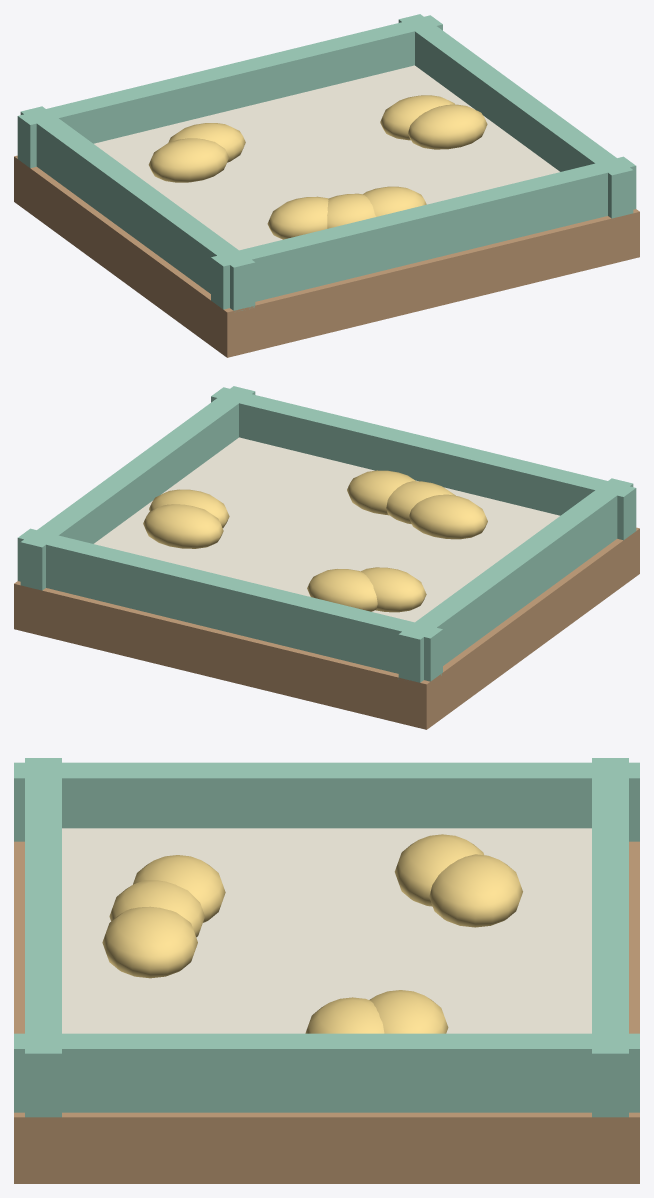
File: dig-box.glb
3 renders of one model, top to bottom at view 1: azimuth 30°, elevation 25°; view 2: azimuth 150°, elevation 25°; view 3: azimuth 270°, elevation 25°, orthographic. The views are drawn at different scales.
Parts seen in each view (by area): view 1: low box rim, soft bedding, digging box, bedding mound.001; view 2: low box rim, soft bedding, digging box, bedding mound.001; view 3: low box rim, soft bedding, digging box, bedding mound.001.
Part boxes in pixels (x1,y1,x2,y2): low box rim: [17, 14, 636, 310]; soft bedding: [94, 65, 559, 250]; digging box: [14, 155, 639, 357]; bedding mound.001: [148, 95, 487, 239]; low box rim: [17, 386, 636, 682]; soft bedding: [94, 437, 559, 622]; digging box: [14, 527, 639, 729]; bedding mound.001: [143, 470, 487, 612]; low box rim: [14, 758, 639, 1117]; soft bedding: [62, 828, 591, 1033]; digging box: [14, 841, 639, 1183]; bedding mound.001: [102, 834, 522, 1033].
Size of the model in its own units: 1.9 by 0.39 by 1.7.
